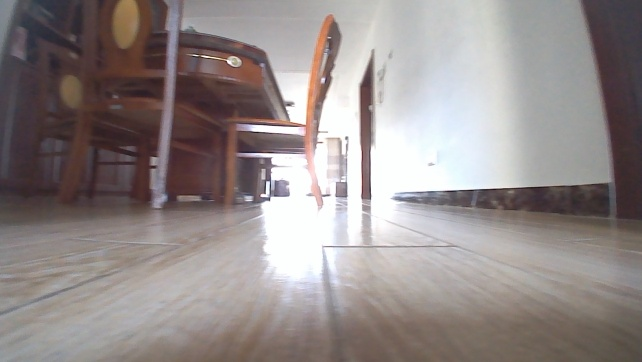dining_table: (0, 0, 344, 212)
